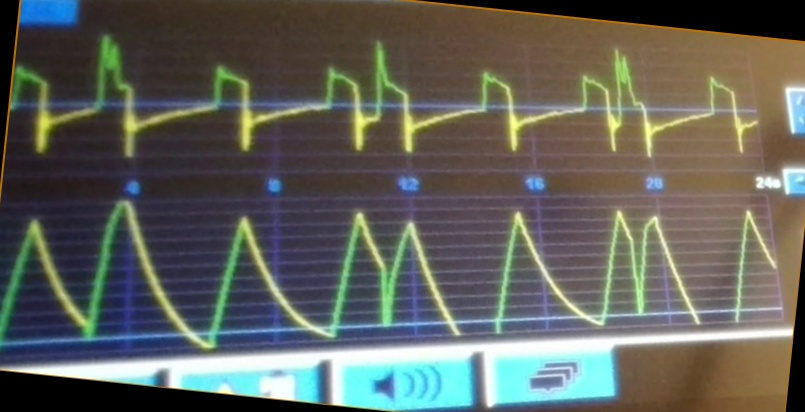Double_Triggering Flow: (18, 31, 664, 168)
Double_Triggering Volume: (4, 199, 700, 332)
